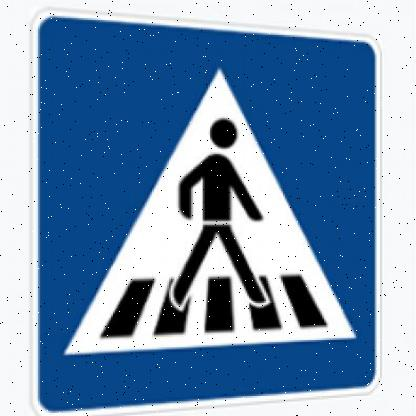Pedestrian Crossing: (31, 12, 387, 410)
